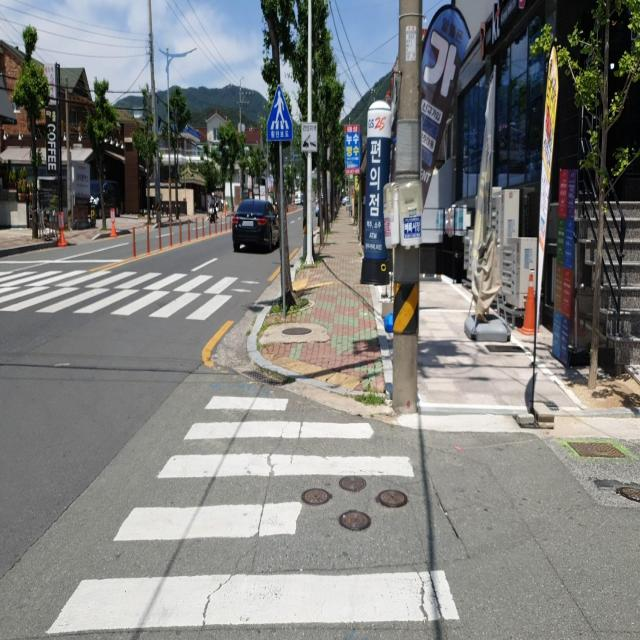횡단보도: (42, 391, 463, 640), (0, 270, 238, 324)
